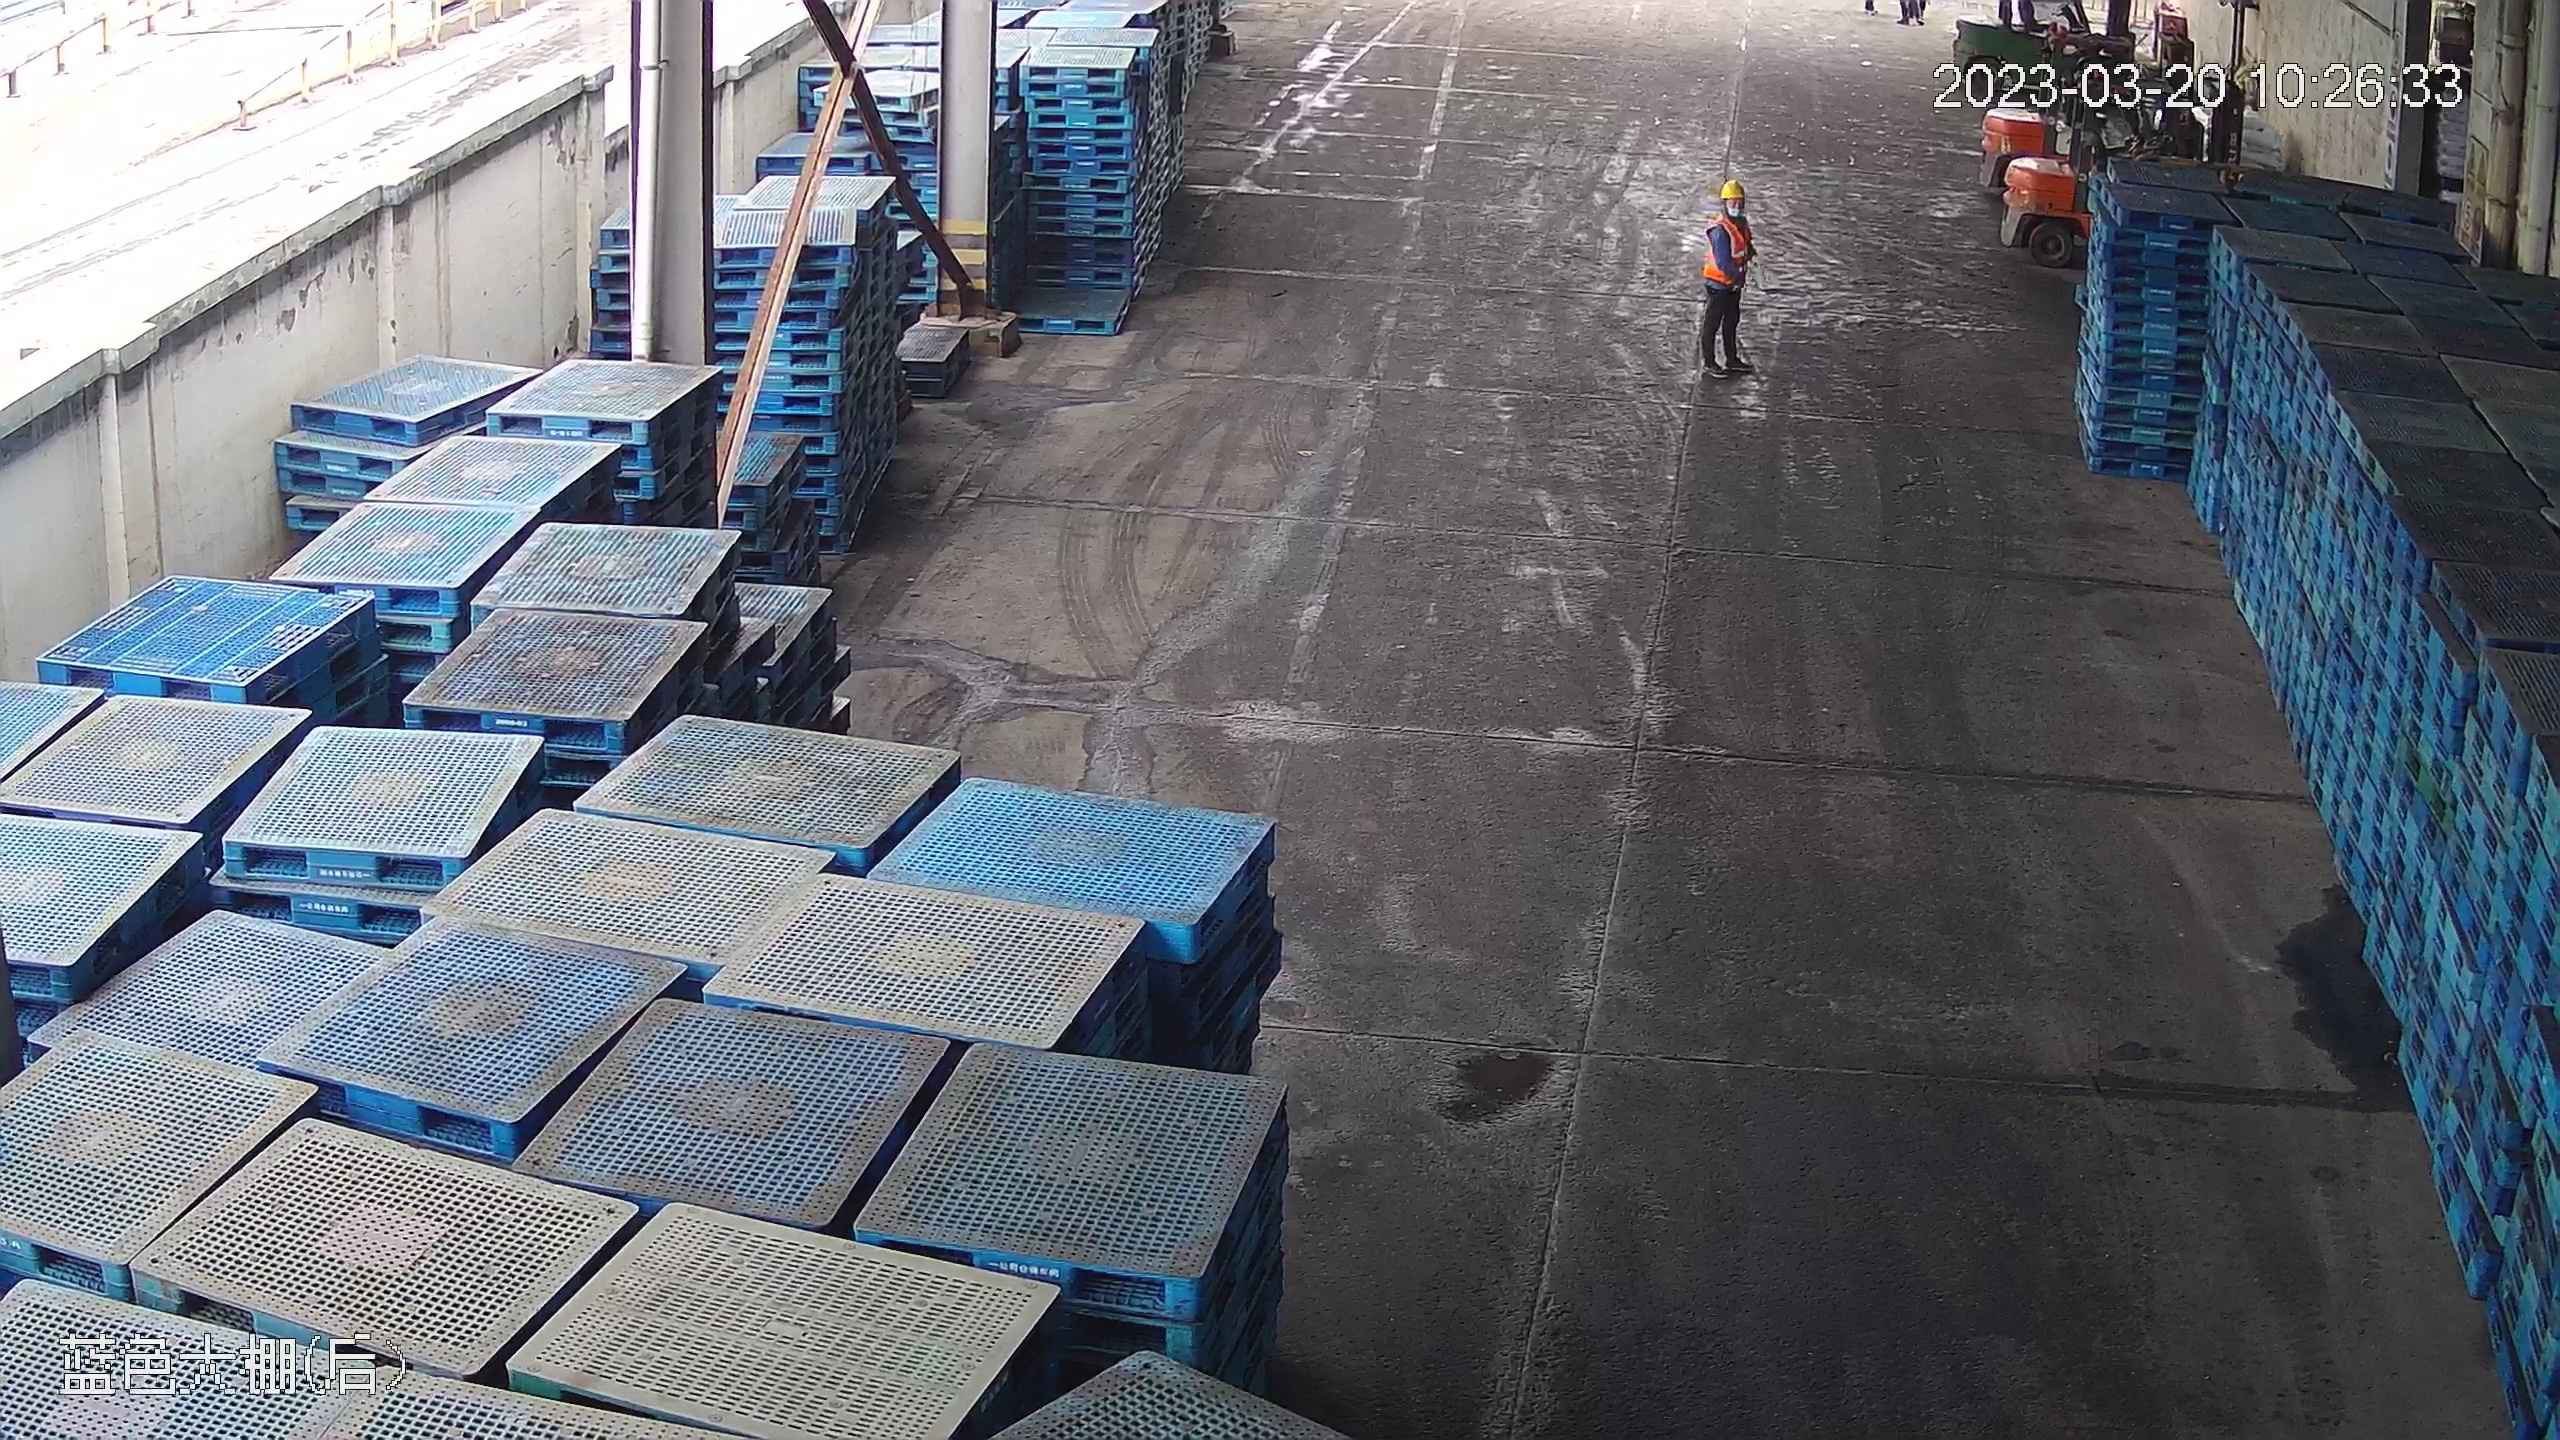head: (1701, 176, 1757, 246)
helmet: (1714, 175, 1748, 199)
people: (1695, 174, 1761, 382)
